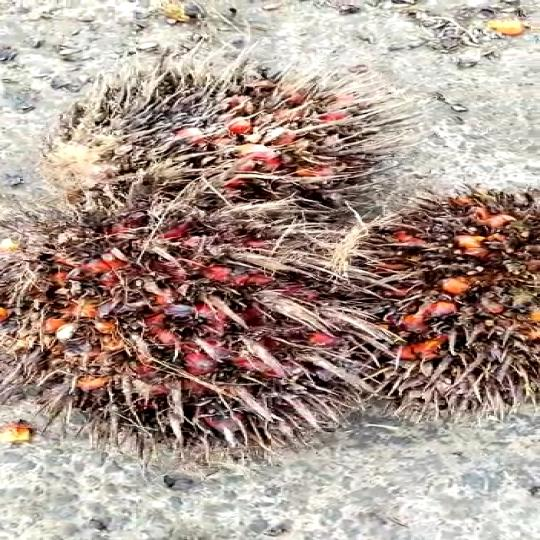terlalu masak: (0, 186, 361, 418), (38, 57, 364, 220), (332, 180, 540, 401)
